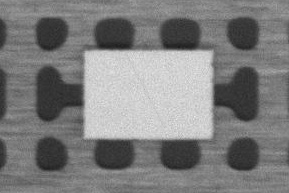DIE_CRACK: (189, 36, 246, 85)
